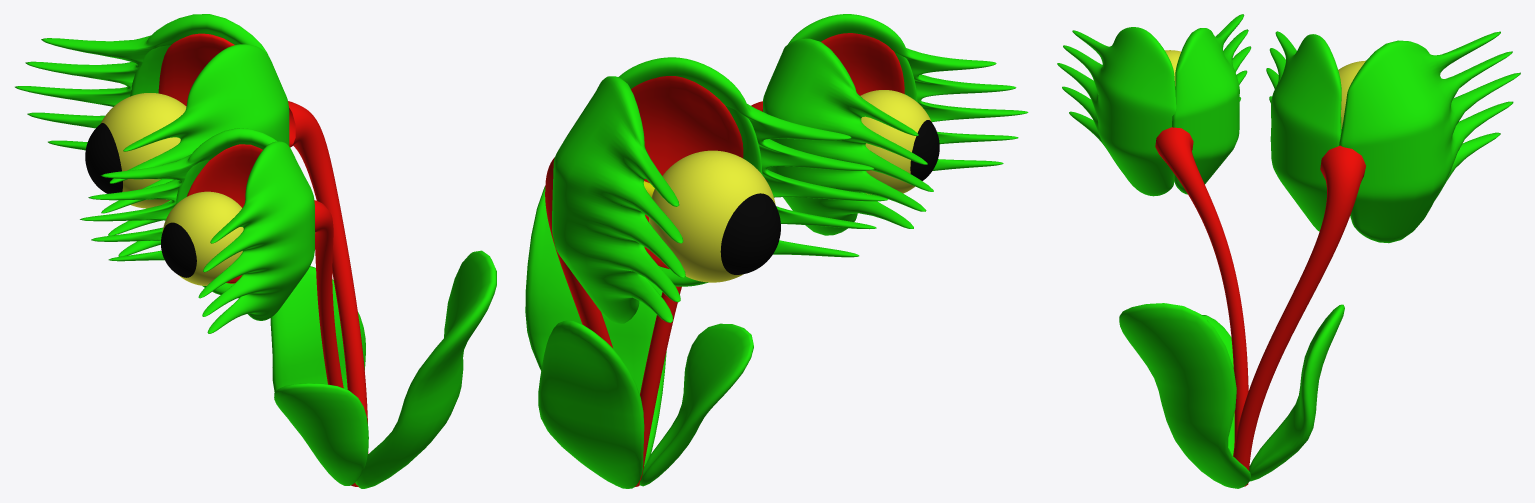
File: 敵キャラ.fbx
3 views of the same model, side by side, from view 1: azimuth 30°, elevation 25°; view 2: azimuth 150°, elevation 25°; view 3: azimuth 270°, elevation 25° (orthographic). The views are drawn at different scales.
Parts seen in each view (by area): view 1: 平面.001, 平面, 平面.007, 平面.002, 平面.006, NURBSパス, 平面.003, 平面.005, 球, 球.002, NURBSパス.002, 平面.004 (+3 smaller); view 2: 平面.002, 平面.003, 平面.005, 平面, 球, 平面.007, 平面.001, 平面.008, 平面.006, 球.001, 平面.010, 球.002 (+3 smaller); view 3: 平面.002, 平面.007, 平面.001, 平面, 平面.003, NURBSパス, NURBSパス.002, 平面.005, 球, 平面.006.
Part boxes in pixels (x1=…): 平面.001: x1=198, y1=141, x2=314, y2=333; 平面: x1=101, y1=44, x2=289, y2=256; 平面.007: x1=355, y1=250, x2=496, y2=488; 平面.002: x1=15, y1=14, x2=267, y2=150; 平面.006: x1=274, y1=383, x2=368, y2=485; NURBSパス: x1=288, y1=101, x2=368, y2=486; 平面.003: x1=80, y1=128, x2=277, y2=298; 平面.005: x1=270, y1=266, x2=365, y2=433; 球: x1=100, y1=93, x2=186, y2=208; 球.002: x1=162, y1=191, x2=243, y2=285; NURBSパス.002: x1=314, y1=200, x2=354, y2=485; 平面.004: x1=158, y1=33, x2=234, y2=106; 平面.002: x1=552, y1=76, x2=685, y2=323; 平面.003: x1=763, y1=38, x2=933, y2=235; 平面.005: x1=538, y1=320, x2=644, y2=488; 平面: x1=618, y1=57, x2=887, y2=286; 球: x1=649, y1=150, x2=775, y2=282; 平面.007: x1=525, y1=186, x2=666, y2=466; 平面.001: x1=788, y1=14, x2=1028, y2=170; 平面.008: x1=631, y1=76, x2=743, y2=268; 平面.006: x1=639, y1=323, x2=753, y2=486; 球.001: x1=720, y1=193, x2=780, y2=274; 平面.010: x1=821, y1=33, x2=904, y2=95; 球.002: x1=860, y1=90, x2=931, y2=194; 平面.002: x1=1339, y1=31, x2=1520, y2=243; 平面.007: x1=1119, y1=303, x2=1250, y2=488; 平面.001: x1=1057, y1=27, x2=1176, y2=196; 平面: x1=1266, y1=31, x2=1341, y2=231; 平面.003: x1=1172, y1=14, x2=1251, y2=194; NURBSパス: x1=1233, y1=145, x2=1365, y2=486; NURBSパス.002: x1=1155, y1=127, x2=1248, y2=445; 平面.005: x1=1249, y1=304, x2=1344, y2=481; 球: x1=1338, y1=60, x2=1365, y2=128; 平面.006: x1=1202, y1=315, x2=1234, y2=455.
Bounding box in the file's own units: 728 × 812 × 832.
